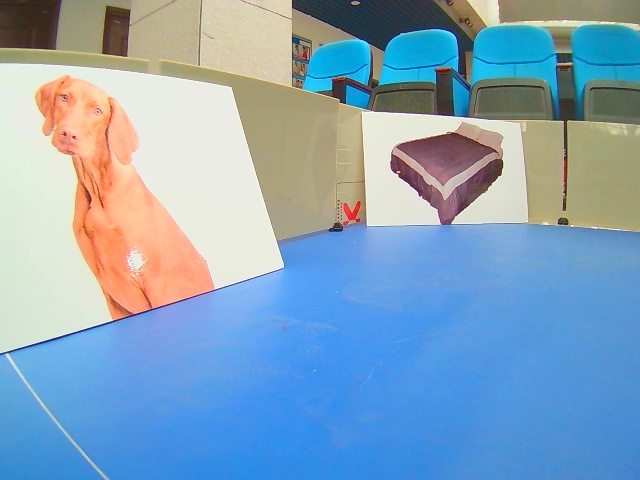bed: (358, 112, 531, 227)
pet: (2, 62, 283, 358)
